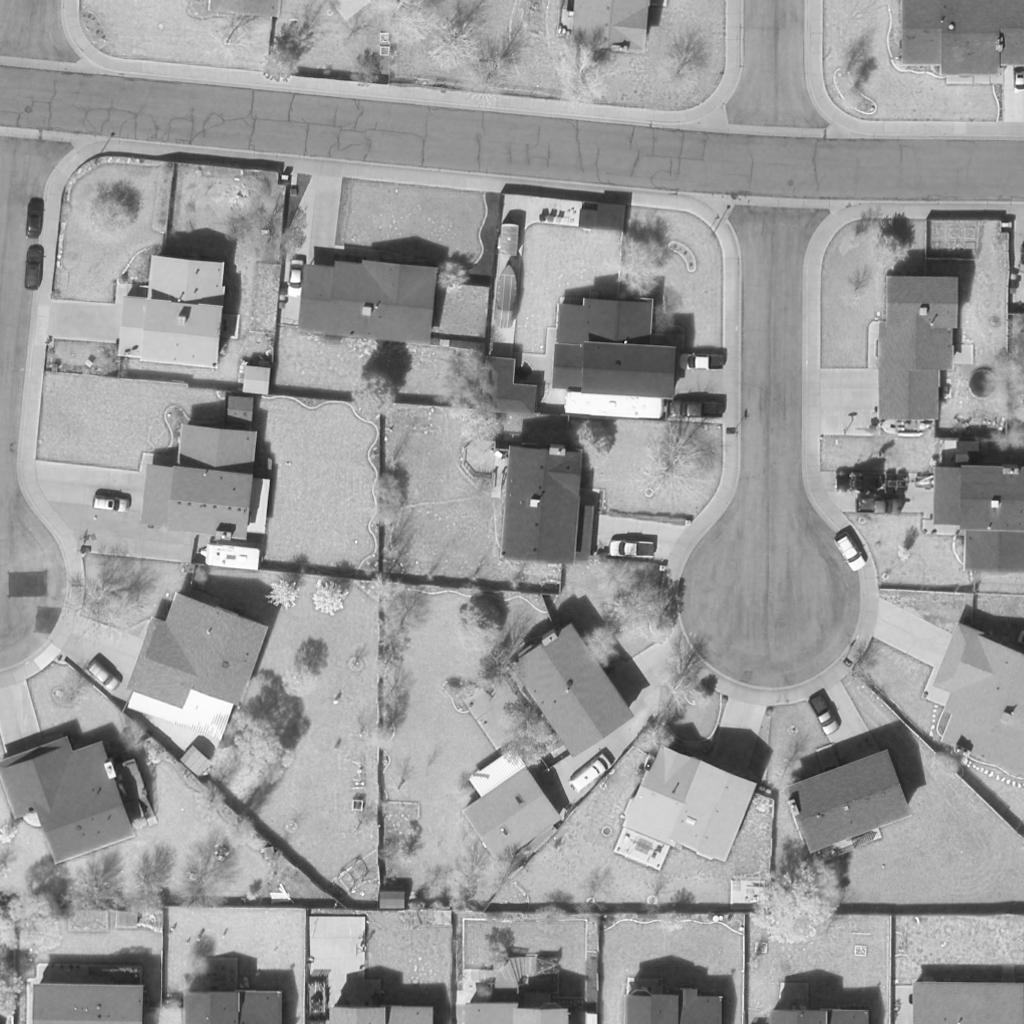vehicle: (494, 261, 524, 331), (831, 528, 871, 576), (568, 754, 612, 794), (202, 544, 262, 570), (808, 691, 842, 735), (82, 657, 120, 691), (676, 352, 730, 374), (664, 401, 728, 419), (605, 539, 655, 559), (854, 496, 906, 514), (877, 420, 931, 436), (92, 496, 132, 516), (26, 248, 44, 292), (24, 203, 44, 239), (288, 261, 306, 297), (1013, 65, 1024, 93)
